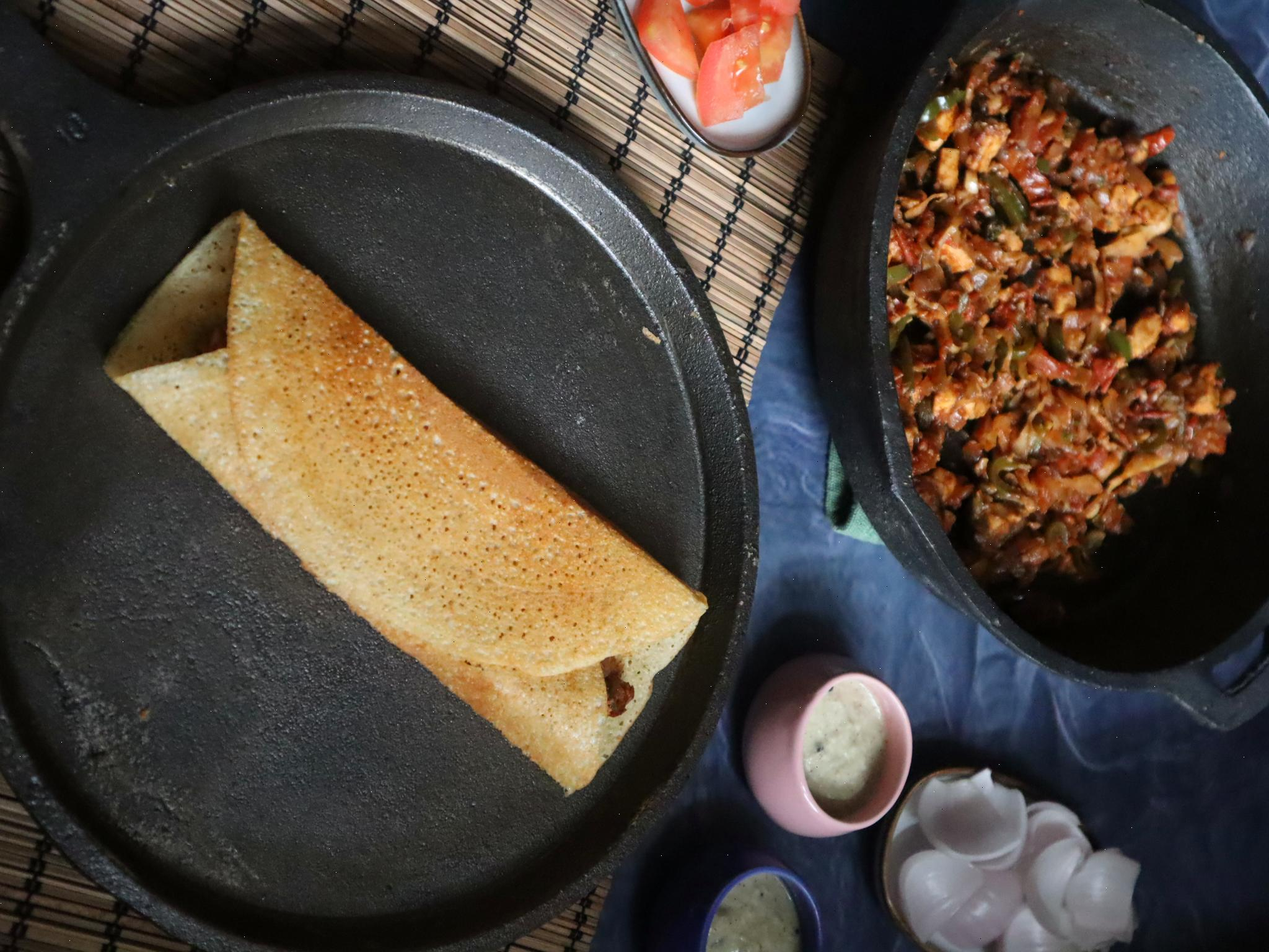dosa: (297, 608, 803, 952)
